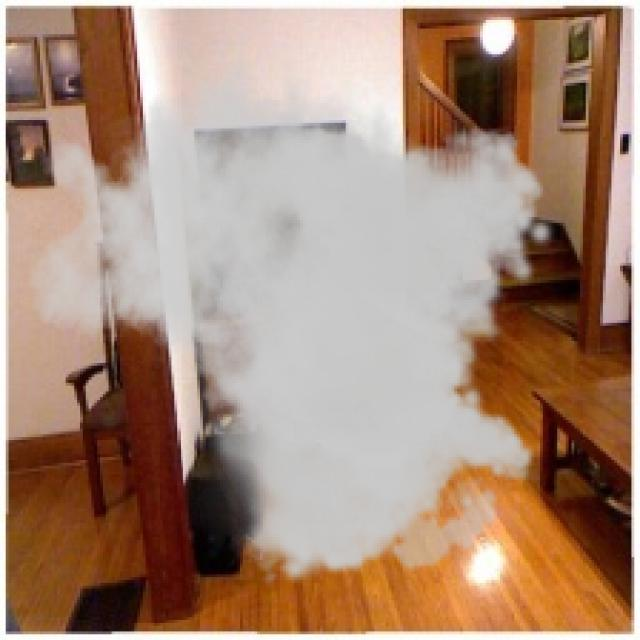smoke: (26, 31, 557, 586)
